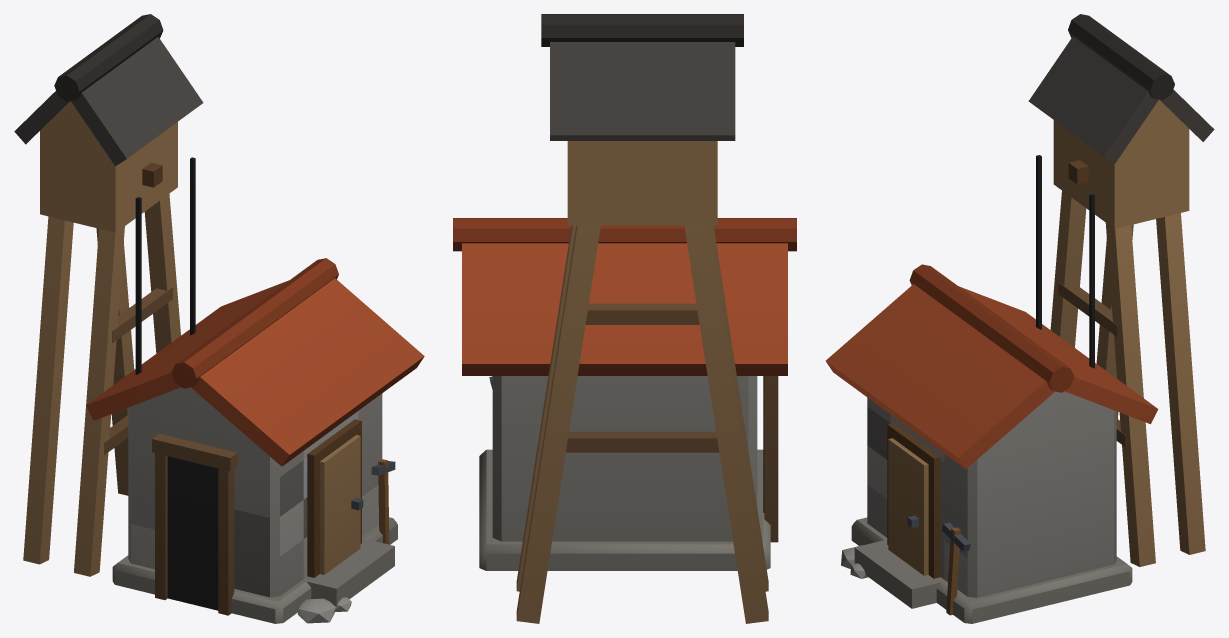
The model's file is building_16.glb.
The picture shows the model from 3 angles, left to right: view 1: azimuth 30°, elevation 25°; view 2: azimuth 150°, elevation 25°; view 3: azimuth 270°, elevation 25°; orthographic projection. The views are drawn at different scales.
Parts seen in each view (by area): view 1: building_16; view 2: building_16; view 3: building_16.
Part boxes in pixels (x1,y1,x2,y2): building_16: [14, 14, 424, 623]; building_16: [453, 14, 796, 623]; building_16: [825, 14, 1214, 623].
Size of the model in its own units: 0.5184 by 0.754 by 0.5423.
